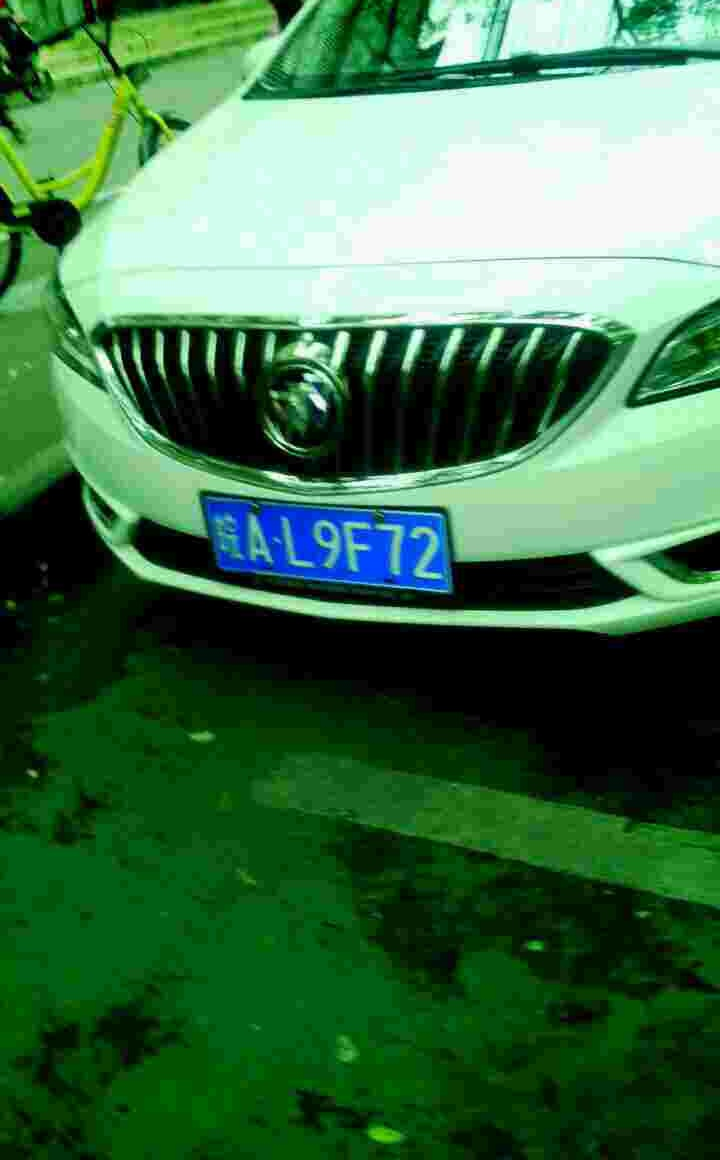license_plate: (208, 498, 469, 604)
